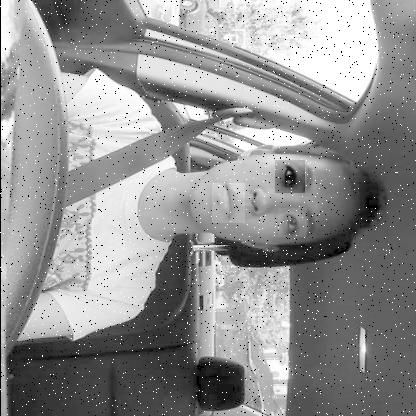seatbelt: (68, 130, 390, 262)
